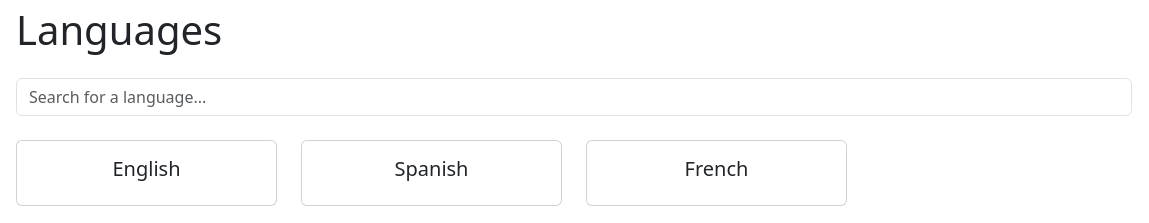
Test case: LanguagesPage › filters language list based on search input
In the field with placeholder "Search for a language...": point(574, 97) [16,78,1132,116], type "sp"
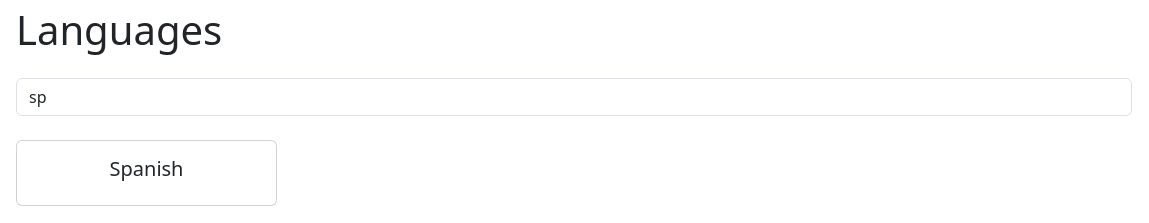
Expected: the text "Spanish" is shown, [110,155,184,182]
Expected: the link "English" is gone
Expected: the link "French" is gone
